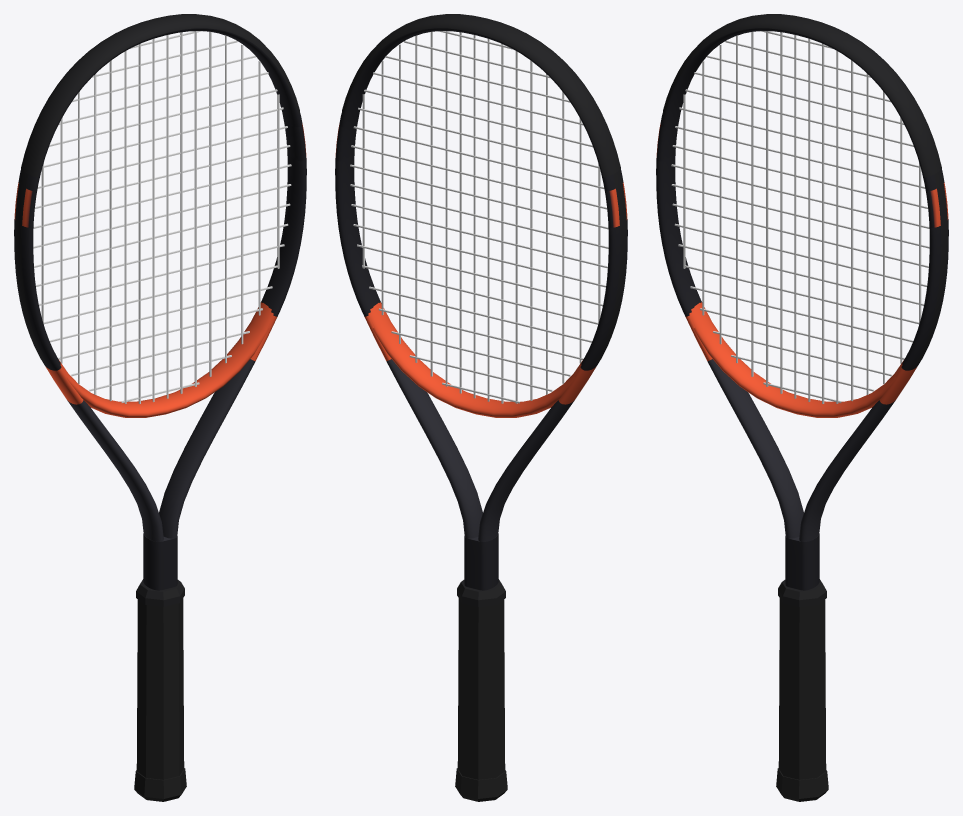
File: wilson-clash-100-v3.glb
3 renders of one model, left to right at view 1: azimuth 30°, elevation 25°; view 2: azimuth 150°, elevation 25°; view 3: azimuth 330°, elevation 25°, orthographic.
Parts seen in each view (by area): view 1: frame, strings_mains, strings_crosses, grip, bumper, grommets, butt_cap, collar; view 2: frame, strings_mains, strings_crosses, grip, bumper, grommets, butt_cap, collar; view 3: frame, strings_mains, strings_crosses, grip, bumper, grommets, butt_cap, collar.
Boxes of the visible parts, x1,y1,x2,y2 form: frame: (14,28,306,590); strings_mains: (41,31,279,403); strings_crosses: (33,31,291,402); grip: (136,598,184,779); bumper: (21,14,299,177); grommets: (15,170,46,363); butt_cap: (134,768,186,801); collar: (136,579,184,606); frame: (335,28,627,590); strings_mains: (362,31,600,403); strings_crosses: (350,31,608,403); grip: (457,598,505,779); bumper: (342,14,620,177); grommets: (595,170,626,363); butt_cap: (455,768,507,801); collar: (457,579,505,606); frame: (656,28,948,590); strings_mains: (683,31,921,403); strings_crosses: (671,31,929,402); grip: (778,598,826,779); bumper: (663,14,941,177); grommets: (916,170,947,363); butt_cap: (776,768,828,801); collar: (778,579,826,606).
Size of the model in its own units: 0.2659 by 0.6861 by 0.0396.
